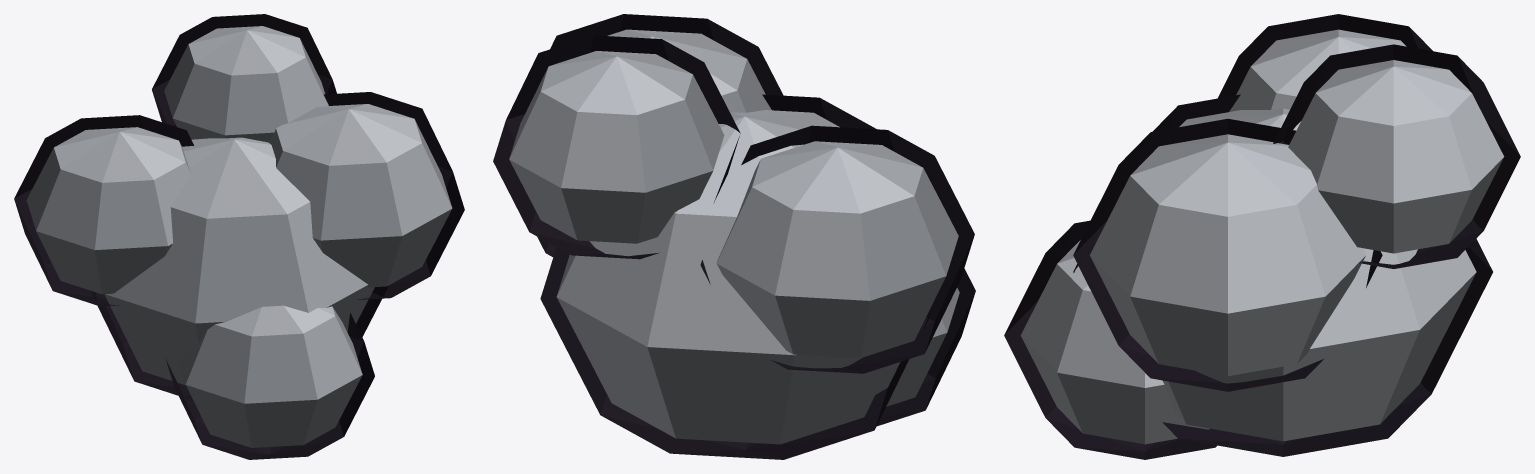
The model's file is Smoke_Puff.glb.
3 views of the same model, side by side, from view 1: azimuth 30°, elevation 25°; view 2: azimuth 150°, elevation 25°; view 3: azimuth 270°, elevation 25° (orthographic). The views are drawn at different scales.
Visible parts, largest first — view 1: Light; view 2: Light; view 3: Light.
Part boxes in pixels (x1,y1,x2,y2): Light: (14,14,464,459); Light: (493,14,975,459); Light: (1004,14,1520,459).
Size of the model in its own units: 20.7 by 17.85 by 18.7.
Materials: 1 (1 with a texture image).
